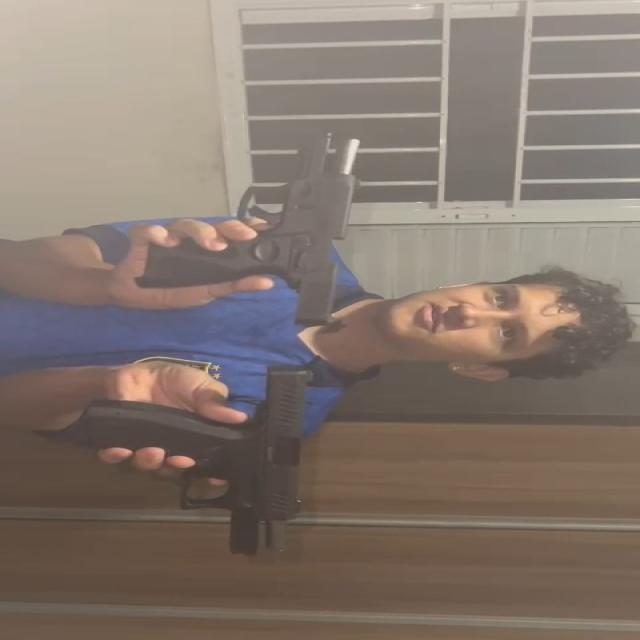gun: (133, 130, 364, 328), (75, 364, 310, 557)
